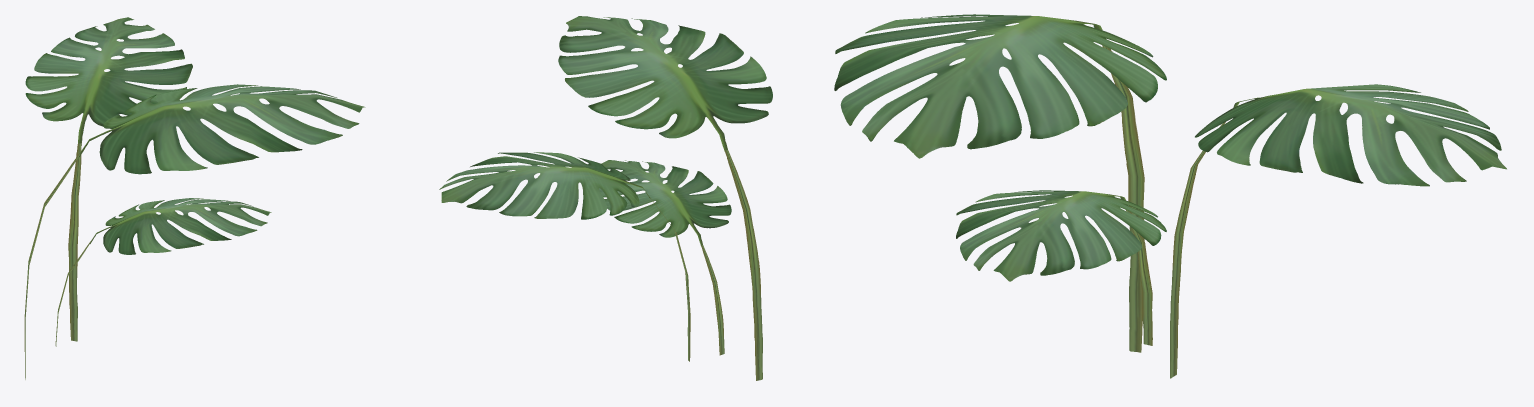
The model's file is SM_Ground_Monstera_B.fbx.
3 views of the same model, side by side, from view 1: azimuth 30°, elevation 25°; view 2: azimuth 150°, elevation 25°; view 3: azimuth 270°, elevation 25° (orthographic). The views are drawn at different scales.
Parts seen in each view (by area): view 1: SM_Ground_Monstera_B_LOD0; view 2: SM_Ground_Monstera_B_LOD0; view 3: SM_Ground_Monstera_B_LOD0.
Part boxes in pixels (x1,y1,x2,y2): SM_Ground_Monstera_B_LOD0: [24, 17, 365, 379]; SM_Ground_Monstera_B_LOD0: [439, 16, 772, 380]; SM_Ground_Monstera_B_LOD0: [834, 14, 1506, 378].
Bounding box in the file's own units: 46.8 × 63.18 × 44.36.
1 material, 1 textured.
